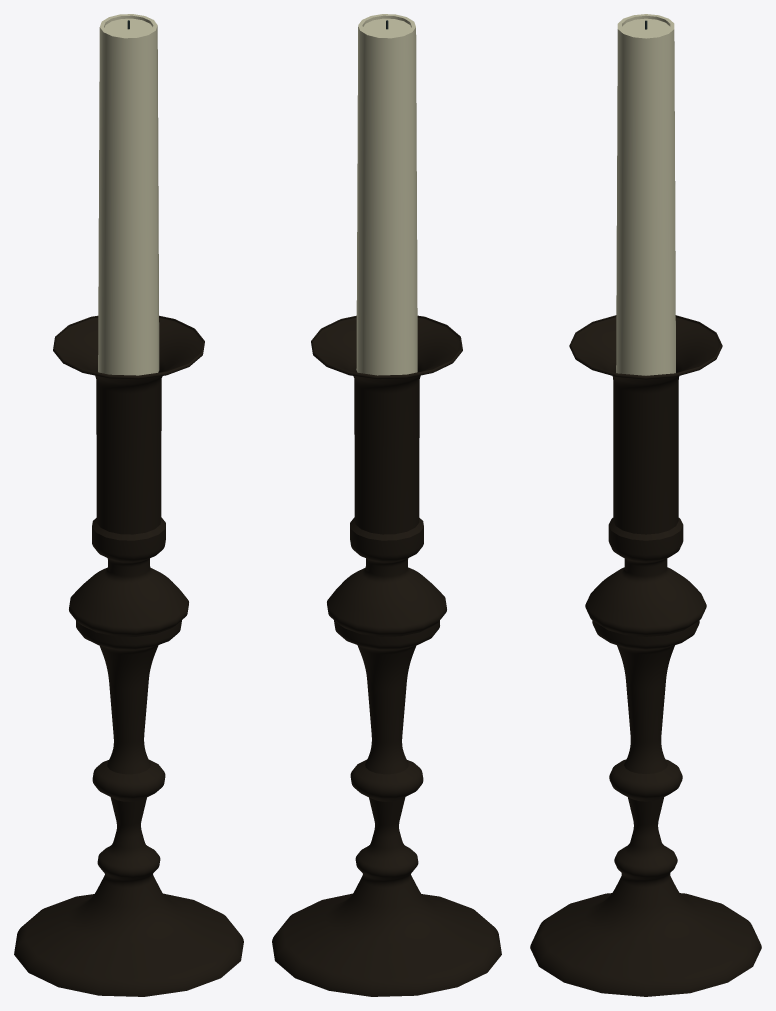
The model's file is CandleLight_02.fbx.
3 renders of one model, left to right at view 1: azimuth 30°, elevation 25°; view 2: azimuth 150°, elevation 25°; view 3: azimuth 270°, elevation 25°, orthographic.
Visible parts, largest first — view 1: Line002; view 2: Line002; view 3: Line002.
Boxes of the visible parts, left/top/right/bottom form: Line002: left=14, top=14, right=243, bottom=996; Line002: left=272, top=14, right=501, bottom=996; Line002: left=530, top=14, right=761, bottom=996.
Size of the model in its own units: 11.92 by 52.63 by 11.92.
